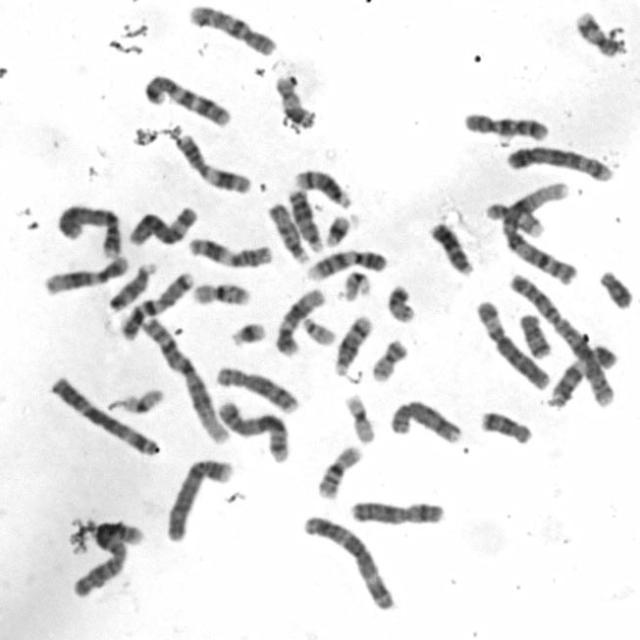A1: (137, 314, 230, 446), (497, 179, 581, 287)
A2: (506, 269, 616, 410), (68, 512, 146, 600)
A3: (298, 511, 398, 612), (46, 373, 161, 458)
B4: (163, 454, 237, 544), (54, 199, 124, 259)
B5: (215, 397, 291, 464), (502, 141, 614, 184)
C10: (184, 1, 278, 58), (460, 109, 551, 143)
C11: (172, 132, 254, 196), (184, 234, 274, 270)
C12: (39, 251, 131, 296), (271, 284, 326, 358)
C6: (472, 295, 552, 391), (126, 203, 197, 249)
C7: (117, 268, 195, 340), (140, 70, 233, 129)
C8: (211, 361, 300, 415), (386, 397, 463, 444)
C9: (544, 339, 619, 408), (302, 245, 389, 282)
D13: (427, 218, 475, 277), (285, 185, 324, 253)
D14: (331, 312, 374, 377), (291, 166, 354, 209)
D15: (265, 200, 310, 264), (106, 259, 158, 313)
E16: (312, 442, 365, 500), (190, 279, 252, 308)
E17: (271, 72, 317, 130), (482, 199, 545, 239), (576, 12, 620, 58)
E18: (476, 407, 534, 445), (515, 309, 554, 360)
F19: (342, 390, 377, 445), (118, 384, 164, 415)
F20: (368, 337, 410, 383), (384, 281, 418, 325)
G21: (321, 210, 357, 248), (226, 317, 268, 349)
G22: (298, 313, 337, 347), (342, 267, 374, 299)
X: (346, 496, 446, 526)
Y: (596, 267, 633, 309)
